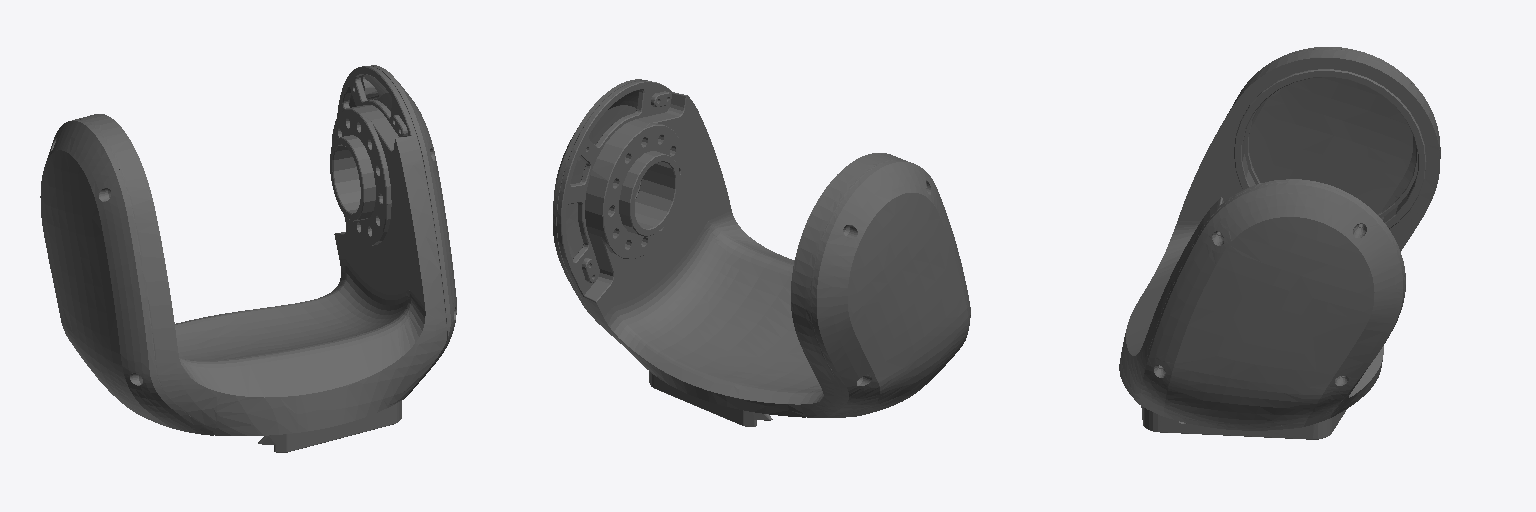
The picture shows the model from 3 angles: view 1: azimuth 30°, elevation 25°; view 2: azimuth 150°, elevation 25°; view 3: azimuth 270°, elevation 25°; orthographic projection.
Parts seen in each view (by area): view 1: leg_l1_link; view 2: leg_l1_link; view 3: leg_l1_link.
Boxes of the visible parts, x1=… form: leg_l1_link: x1=40, y1=65, x2=456, y2=452; leg_l1_link: x1=553, y1=79, x2=970, y2=426; leg_l1_link: x1=1119, y1=47, x2=1440, y2=439.
Bounding box in the file's own units: 0.1436 × 0.1172 × 0.1194.